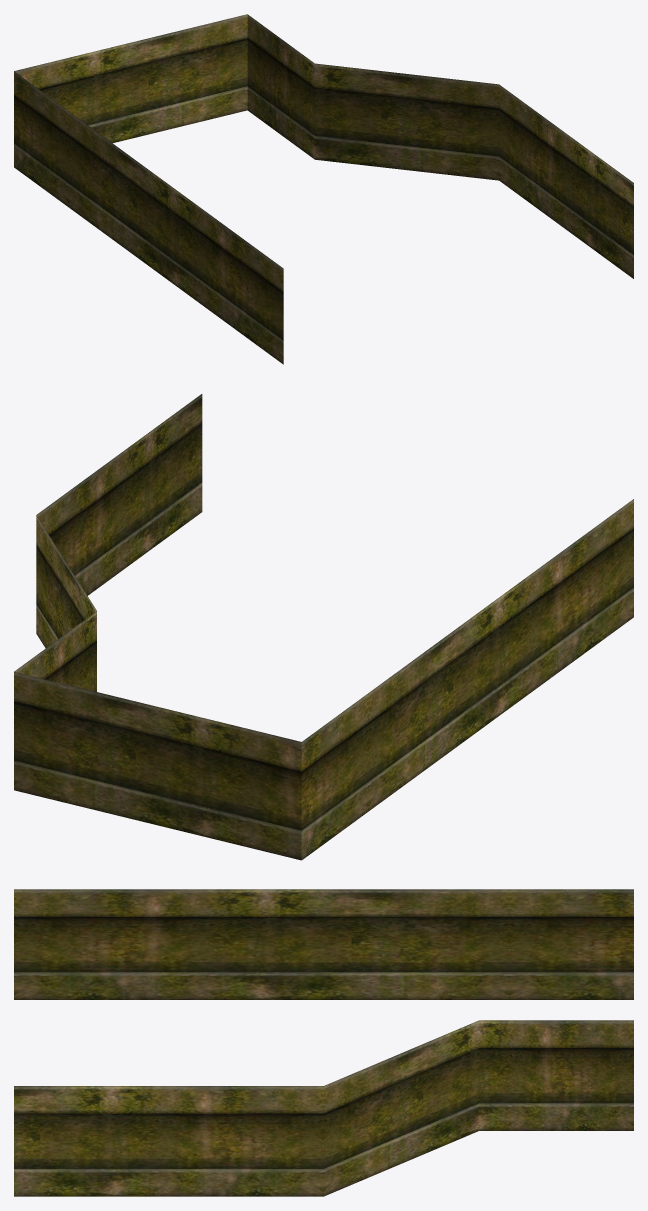
Rendered from OVERHILL_A_01_OBJECT123.fbx.
3 renders of one model, top to bottom at view 1: azimuth 30°, elevation 25°; view 2: azimuth 150°, elevation 25°; view 3: azimuth 270°, elevation 25°, orthographic. The views are drawn at different scales.
Visible parts, largest first — view 1: OVERHILL_A_01_OBJECT123; view 2: OVERHILL_A_01_OBJECT123; view 3: OVERHILL_A_01_OBJECT123.
Part boxes in pixels (x1=…): OVERHILL_A_01_OBJECT123: x1=14, y1=14, x2=633, y2=364; OVERHILL_A_01_OBJECT123: x1=14, y1=394, x2=633, y2=860; OVERHILL_A_01_OBJECT123: x1=14, y1=889, x2=633, y2=1196.
Size of the model in its own units: 30000 by 7876 by 40000.
1 material, 1 textured.
